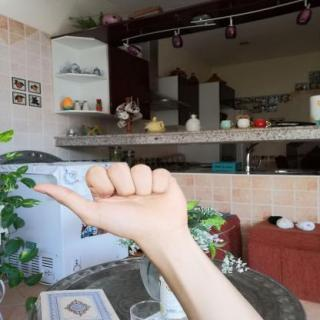DAD: (25, 157, 196, 246)
